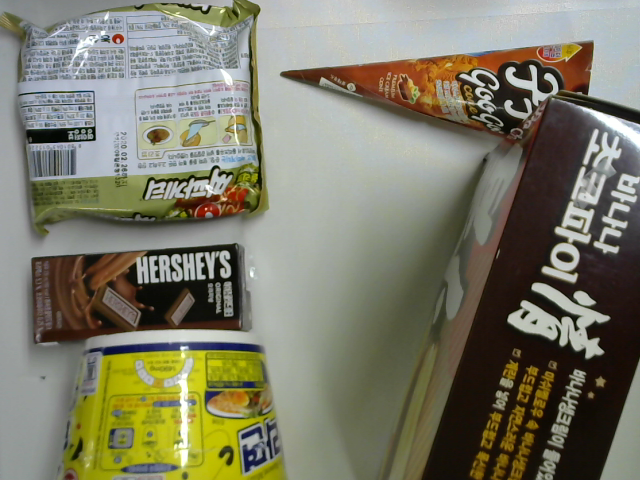Choco_Pie_Banana: (376, 91, 640, 480)
GooGoo_Cone_CVS: (278, 40, 594, 150)
Hush_Choco_Drink: (26, 239, 258, 351)
Jinlamyeon_Mild_Taste_Large_Cup: (58, 325, 289, 480)
Olive_Chapaghetti: (1, 1, 270, 241)
